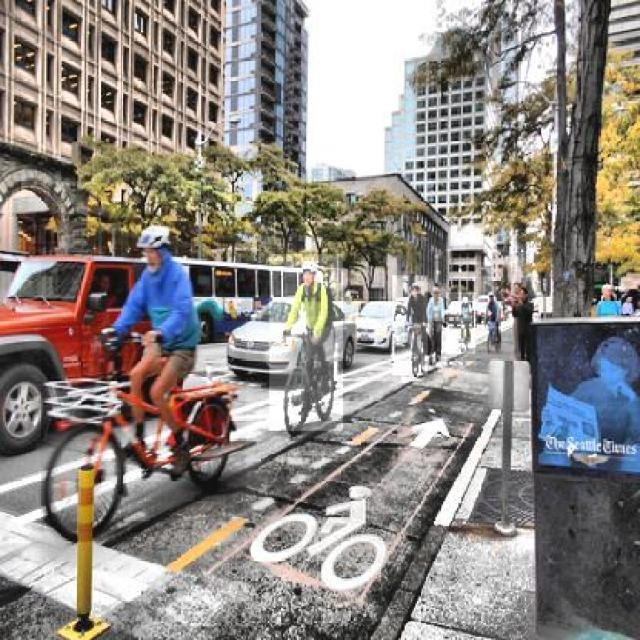bikerider: (40, 214, 246, 532), (269, 254, 343, 431), (392, 276, 428, 376), (416, 282, 450, 362), (474, 281, 508, 357), (446, 292, 476, 356)
